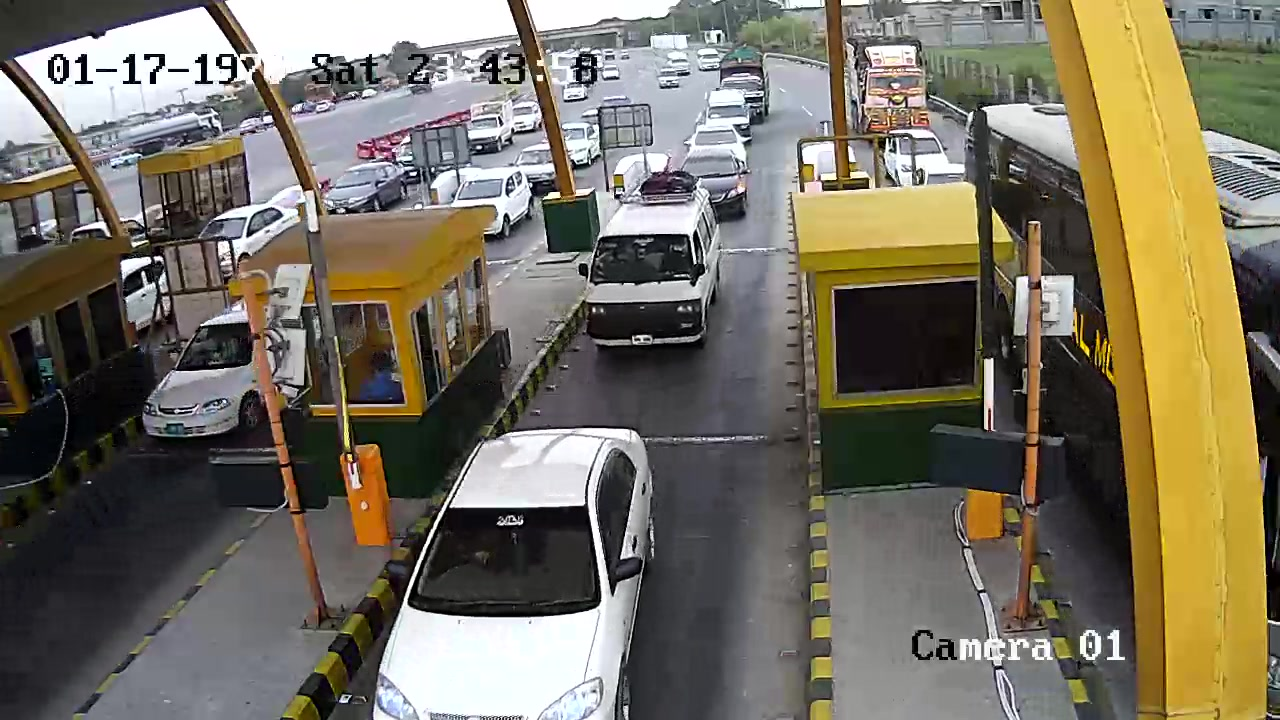F3: (586, 172, 727, 357)
